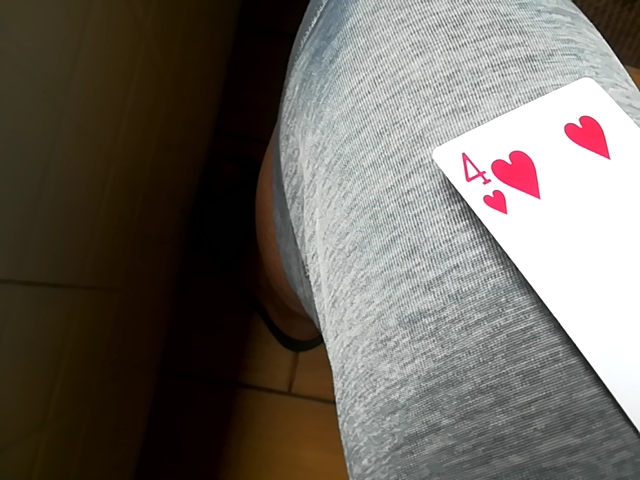hx 4: (423, 79, 636, 456)
